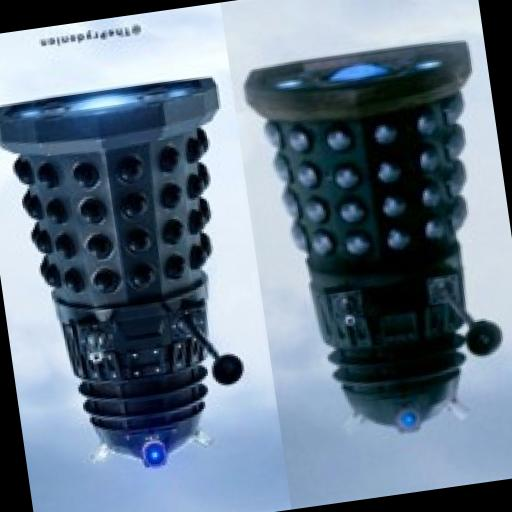dalek: (242, 36, 512, 449), (0, 75, 270, 479)
